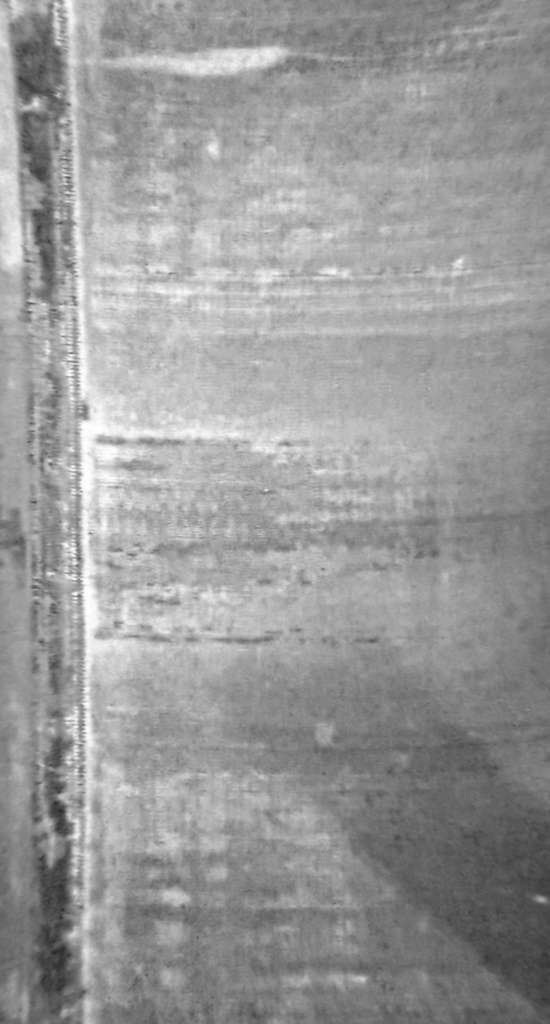splice: (1, 1, 98, 1024)
